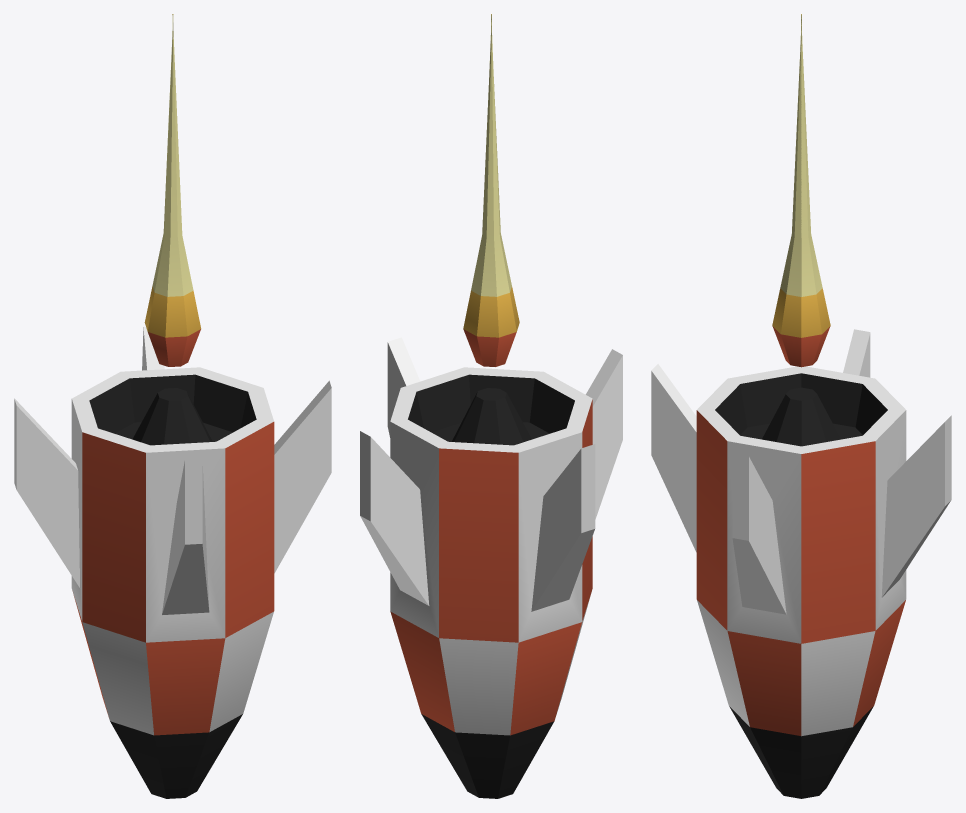
Rendered from missile_mesh.glb.
3 renders of one model, left to right at view 1: azimuth 30°, elevation 25°; view 2: azimuth 150°, elevation 25°; view 3: azimuth 270°, elevation 25°, orthographic.
Parts seen in each view (by area): view 1: Cylinder.001; view 2: Cylinder.001; view 3: Cylinder.001.
Part boxes in pixels (bbox=[...]): Cylinder.001: bbox=[14, 14, 331, 798]; Cylinder.001: bbox=[360, 14, 622, 798]; Cylinder.001: bbox=[651, 14, 951, 798].
Bounding box in the file's own units: 0.871 × 2.48 × 0.871.
Materials: 1 (1 with a texture image).
